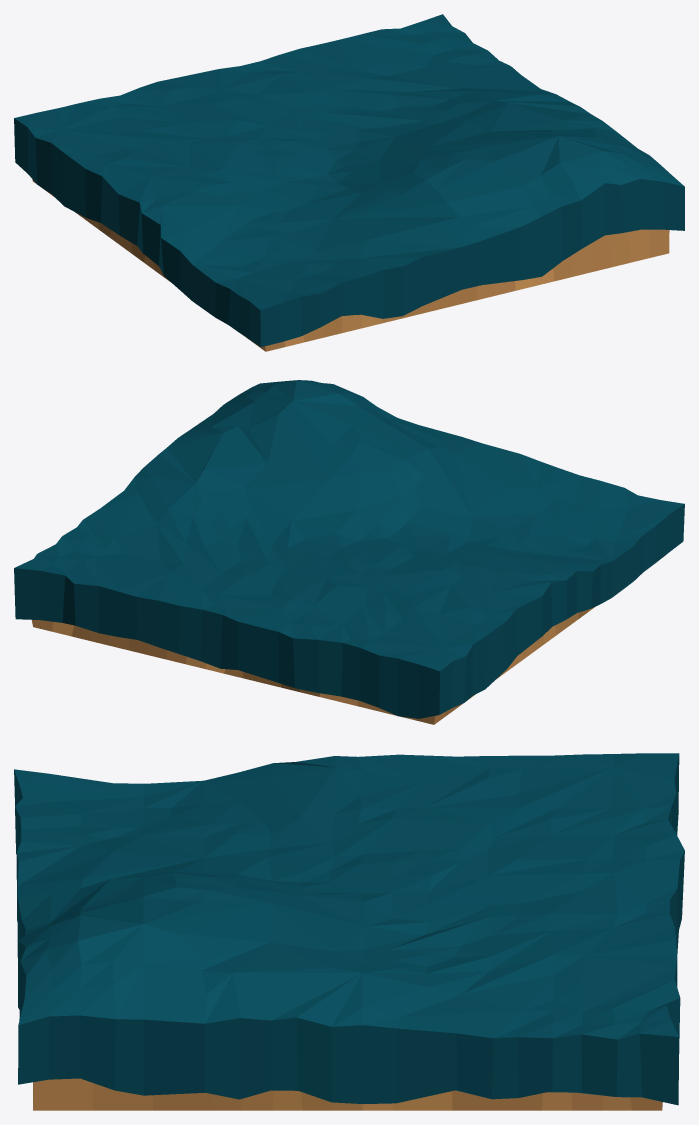
Rendered from water_diorama.FBX.
3 views of the same model, one above another, from view 1: azimuth 30°, elevation 25°; view 2: azimuth 150°, elevation 25°; view 3: azimuth 270°, elevation 25° (orthographic). The views are drawn at different scales.
Visible parts, largest first — view 1: water_diorama; view 2: water_diorama; view 3: water_diorama.
Part boxes in pixels (box(x1,y1,x2,y2)): water_diorama: box(14, 14, 684, 351); water_diorama: box(14, 380, 684, 724); water_diorama: box(14, 753, 684, 1110).
Bounding box in the file's own units: 143 × 33.22 × 142.
